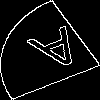A: (24, 25, 95, 82)
